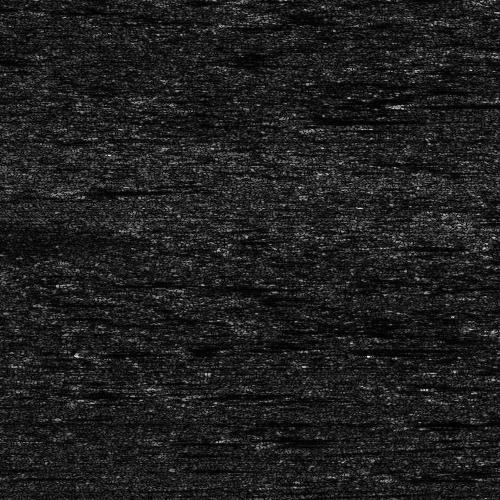rock: (28, 184, 111, 195), (288, 344, 371, 351), (373, 101, 426, 106), (281, 114, 312, 121)
shadow: (70, 184, 204, 195), (330, 344, 446, 351), (297, 114, 407, 121), (400, 101, 500, 106)
